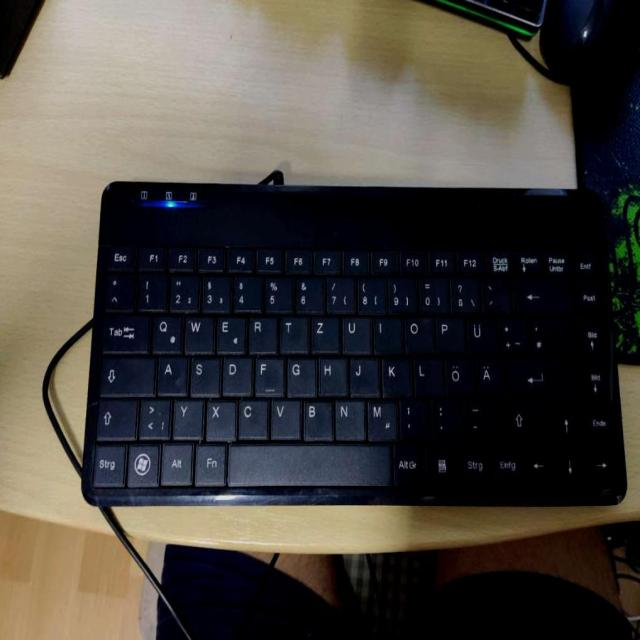0: (417, 273, 446, 312)
1: (136, 269, 166, 307)
2: (168, 270, 197, 309)
3: (199, 271, 229, 310)
4: (231, 271, 260, 309)
5: (262, 272, 291, 310)
6: (293, 273, 322, 311)
7: (325, 273, 353, 312)
8: (356, 273, 383, 313)
9: (385, 273, 415, 312)
a: (155, 351, 186, 393)
accent: (478, 274, 508, 312)
ae: (474, 355, 504, 395)
alt-left: (160, 441, 192, 486)
altgr-right: (391, 439, 423, 484)
b: (301, 396, 332, 438)
c: (236, 395, 267, 437)
caret: (103, 271, 134, 309)
comma: (397, 396, 428, 438)
d: (219, 352, 251, 394)
del: (510, 275, 571, 312)
e: (214, 311, 244, 351)
enter: (506, 355, 577, 396)
f: (253, 352, 282, 393)
g: (284, 353, 314, 394)
h: (316, 353, 345, 394)
hash: (528, 315, 574, 354)
i: (371, 312, 400, 352)
j: (348, 354, 377, 395)
k: (380, 354, 409, 396)
keyboard: (78, 181, 632, 512)
l: (411, 355, 441, 396)
less: (137, 393, 169, 437)
m: (365, 395, 396, 440)
minus: (460, 396, 492, 438)
n: (332, 395, 363, 438)
o: (402, 312, 433, 353)
oe: (443, 355, 473, 396)
p: (433, 312, 463, 353)
plus: (496, 313, 526, 353)
point: (429, 396, 460, 438)
q: (149, 309, 180, 351)
r: (246, 311, 276, 351)
s: (188, 353, 219, 395)
shift-left: (93, 394, 136, 438)
shift-lock: (98, 351, 154, 394)
shift-right: (493, 396, 549, 440)
space: (227, 440, 390, 486)
ss: (448, 273, 477, 312)
strg-left: (90, 440, 124, 485)
strg-right: (456, 439, 488, 484)
t: (278, 311, 305, 351)
tab: (100, 308, 148, 350)
u: (340, 312, 369, 352)
ue: (465, 314, 495, 355)
v: (269, 395, 299, 438)
w: (182, 310, 212, 352)
x: (204, 395, 235, 440)
y: (170, 394, 202, 437)
z: (309, 312, 338, 350)
